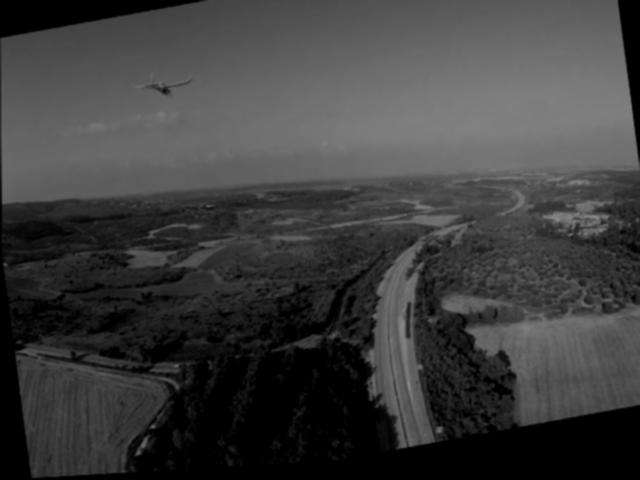hedef: (128, 65, 205, 112)
